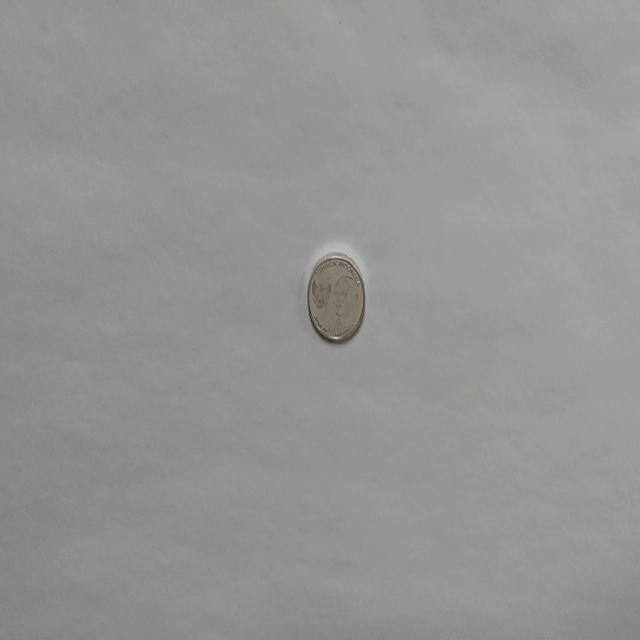lima ratus rupiah: (306, 252, 366, 344)
